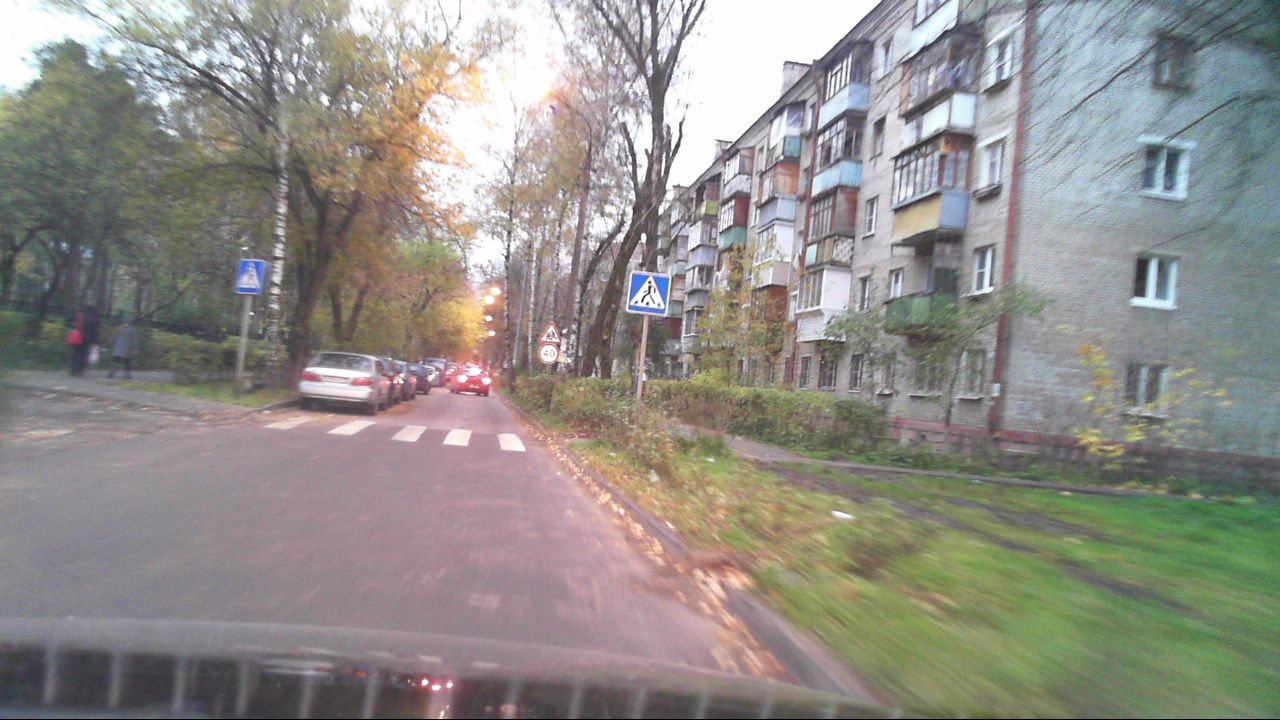speed_warning_40: (538, 344, 559, 363)
